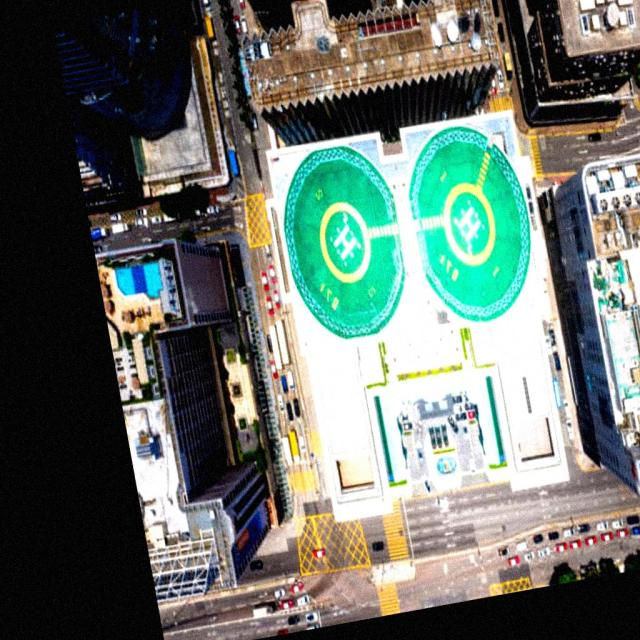helipad: (440, 179, 498, 267), (317, 199, 372, 285)
